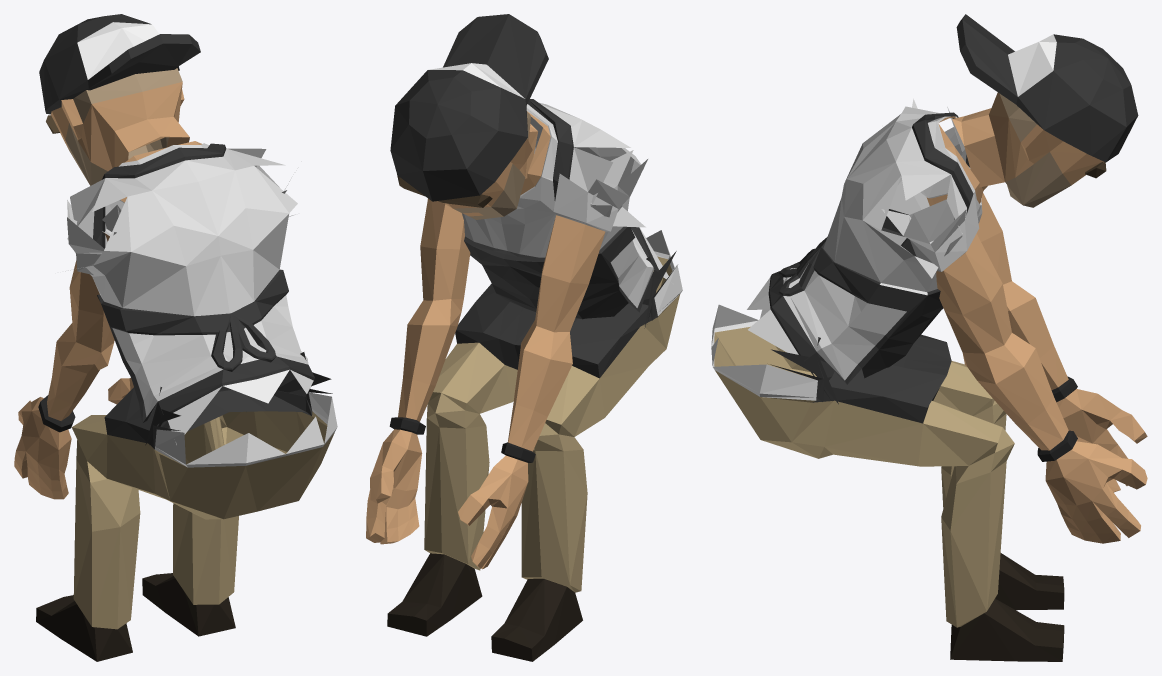
File: Cop_cpr.obj
3 views of the same model, side by side, from view 1: azimuth 30°, elevation 25°; view 2: azimuth 150°, elevation 25°; view 3: azimuth 270°, elevation 25° (orthographic). The views are drawn at different scales.
Parts seen in each view (by area): view 1: Cop_cpr; view 2: Cop_cpr; view 3: Cop_cpr.
Boxes of the visible parts, x1,y1,x2,y2 form: Cop_cpr: (14,14,337,661); Cop_cpr: (366,14,682,661); Cop_cpr: (711,14,1147,661).
Size of the model in its own units: 0.5658 by 1.31 by 0.8565.
1 material, 1 textured.
